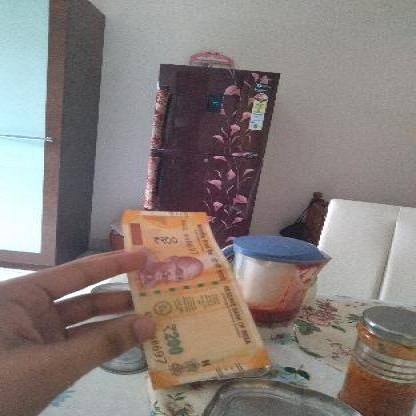New200Front: (119, 206, 257, 382)
